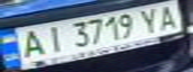1: (103, 12, 124, 42)
3: (66, 19, 90, 48)
7: (84, 16, 109, 45)
9: (115, 10, 139, 39)
A: (12, 27, 51, 60), (151, 2, 184, 30)
I: (36, 24, 69, 53)
Y: (136, 6, 166, 34)
